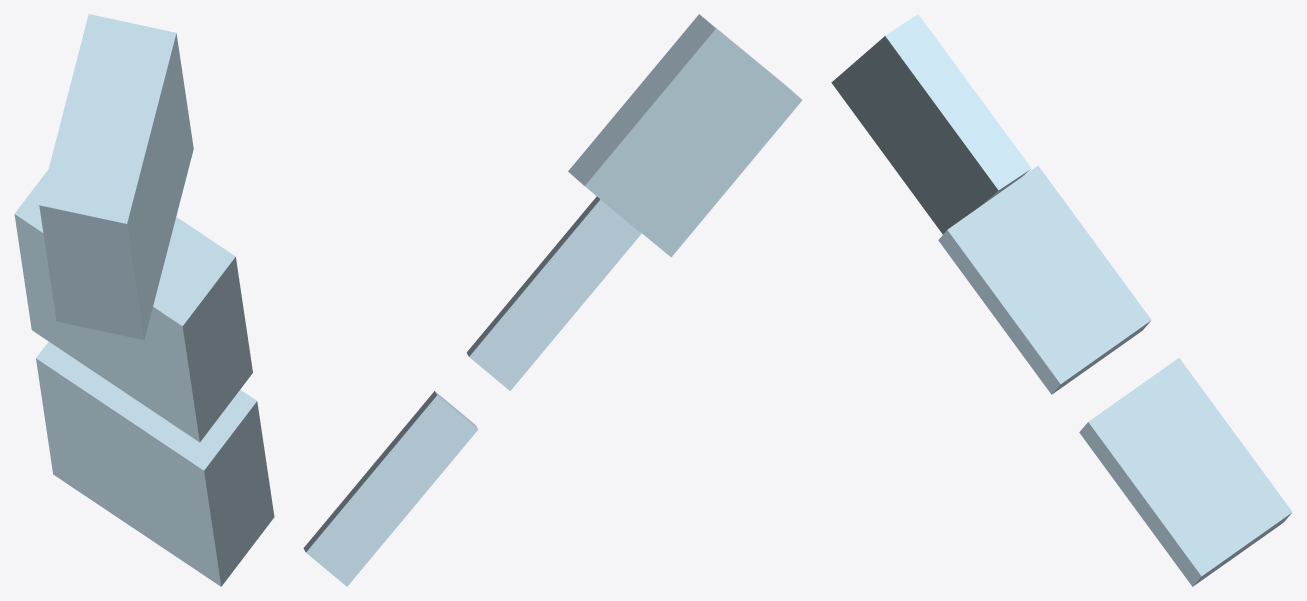
Rendered from boiboites [96].gltf.
3 renders of one model, left to right at view 1: azimuth 30°, elevation 25°; view 2: azimuth 150°, elevation 25°; view 3: azimuth 270°, elevation 25°, orthographic. The views are drawn at different scales.
Parts seen in each view (by area): view 1: Part 1 (×3); view 2: Part 1 (×3); view 3: Part 1 (×3).
Part boxes in pixels (left/top/right/bottom): Part 1 (×3): left=14, top=14, right=274, bottom=586; Part 1 (×3): left=303, top=14, right=802, bottom=586; Part 1 (×3): left=831, top=14, right=1292, bottom=586.
Size of the model in its own units: 0.2103 by 0.3157 by 0.2807.
